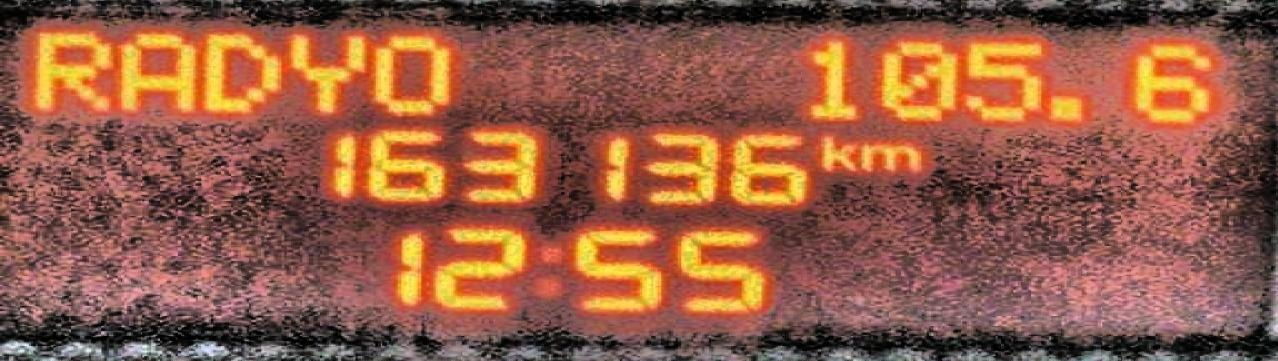-: (1044, 88, 1086, 125)
0: (873, 31, 962, 125)
1: (791, 30, 862, 121), (366, 222, 426, 311), (578, 127, 638, 201), (306, 126, 355, 201)
2: (426, 218, 526, 315)
3: (455, 119, 542, 208), (638, 123, 720, 212)
5: (662, 223, 768, 317), (573, 225, 662, 316), (959, 32, 1044, 126)
6: (1113, 35, 1224, 128), (360, 121, 449, 205), (720, 126, 811, 207)
X: (17, 22, 113, 114), (197, 19, 282, 117), (111, 21, 197, 117), (366, 26, 455, 117), (282, 26, 366, 116), (855, 137, 926, 174), (526, 239, 564, 302), (813, 126, 855, 173)
